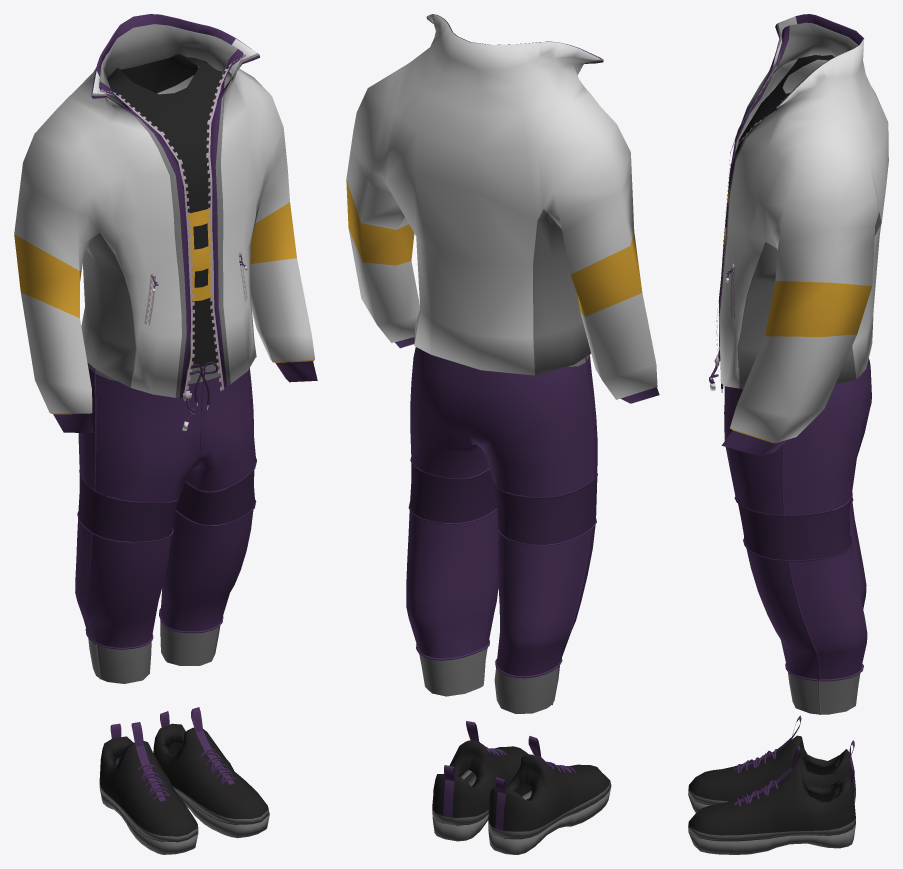
3 renders of one model, left to right at view 1: azimuth 30°, elevation 25°; view 2: azimuth 150°, elevation 25°; view 3: azimuth 270°, elevation 25°, orthographic. The views are drawn at different scales.
Visible parts, largest first — view 1: Cube.001, jeans.002, shoes.002, undertshirt.002; view 2: Cube.001, jeans.002, shoes.002; view 3: Cube.001, jeans.002, shoes.002, undertshirt.002.
Boxes of the visible parts, bbox=[...] form: Cube.001: bbox=[14, 14, 317, 432]; jeans.002: bbox=[75, 361, 256, 683]; shoes.002: bbox=[99, 707, 269, 854]; undertshirt.002: bbox=[107, 53, 222, 369]; Cube.001: bbox=[346, 14, 659, 403]; jeans.002: bbox=[406, 347, 597, 713]; shoes.002: bbox=[432, 721, 611, 854]; Cube.001: bbox=[709, 14, 888, 456]; jeans.002: bbox=[718, 335, 871, 714]; shoes.002: bbox=[688, 715, 855, 854]; undertshirt.002: bbox=[724, 55, 834, 245].
Bounding box in the file's own units: 0.5347 × 1.43 × 0.3284.
